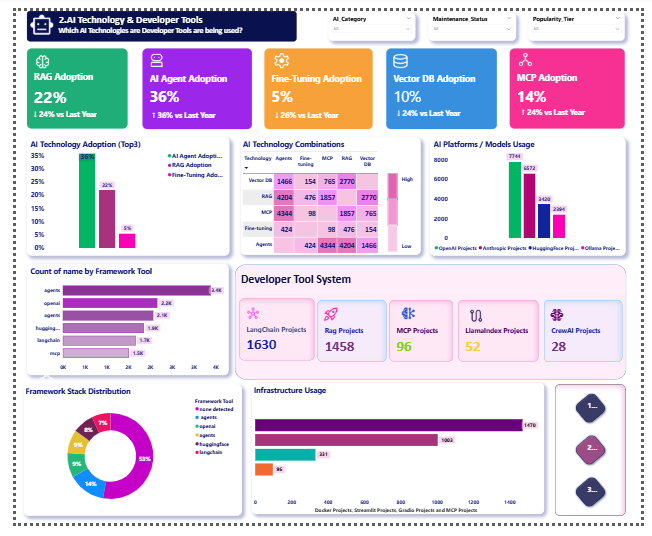

Layout of this report page (visuals, bound fields, positions):
{"tool":"powerbi","page":{"name":"2. AI Technology & Developer Tools","canvas":[2000,1640],"ordinal":1},"visuals":[{"type":"shape","box":[700,810,1253.3,370],"z":0},{"type":"cardVisual","fields":{"Data":["github_ai_intelligence_2026.RAG Adoption %"]},"box":[36,120,322,256],"z":1000},{"type":"cardVisual","fields":{"Data":["github_ai_intelligence_2026.AI Agent Adoption %"]},"box":[406,120,350,258],"z":2000},{"type":"cardVisual","fields":{"Data":["github_ai_intelligence_2026.Fine-Tuning Adoption %"]},"box":[796,120,346,258],"z":3000},{"type":"cardVisual","fields":{"Data":["github_ai_intelligence_2026.MCP Adoption %"]},"box":[1580,120,368,256],"z":4000},{"type":"textbox","box":[35,0,862.5,97.5],"z":5000},{"type":"cardVisual","fields":{"Data":["github_ai_intelligence_2026.Vector DB Adoption %"]},"box":[1186,120,354,258],"z":6000},{"type":"slicer","fields":{"Values":["github_ai_intelligence_2026.ai_category"]},"box":[1000,4,278,90],"z":7000},{"type":"slicer","title":"Maintenance_Status","fields":{"Values":["github_ai_intelligence_2026.maintenance_status"]},"box":[1322,4,280,90],"z":8000},{"type":"slicer","title":"Popularity_tier","fields":{"Values":["github_ai_intelligence_2026.popularity_tier"]},"box":[1640,6,308,90],"z":9000},{"type":"clusteredColumnChart","title":"AI Technology Adoption (Top3)","fields":{"Y":["github_ai_intelligence_2026.AI Agent Adoption %","github_ai_intelligence_2026.RAG Adoption %","github_ai_intelligence_2026.Fine-Tuning Adoption %"]},"box":[35,402.5,647.5,377.5],"z":10000},{"type":"clusteredColumnChart","title":"AI Platforms / Models Usage","fields":{"Y":["AI Technology.OpenAI Projects","AI Technology.Anthropic Projects","AI Technology.HuggingFace Projects","AI Technology.Ollama Projects"]},"box":[1325,405,625,377.5],"z":11000},{"type":"clusteredBarChart","fields":{"Category":["github_ai_intelligence_2026.framework_stack"],"Y":["CountNonNull(github_ai_intelligence_2026.name)"]},"box":[35,810,645,355],"z":12000},{"type":"pivotTable","title":"AI Technology Combinations","fields":{"Rows":["Tech Row.Technology"],"Columns":["Tech Column.Technology"],"Values":["Tech Row.Technology Combination"]},"box":[720,405,575,375],"z":13000},{"type":"cardVisual","fields":{"Data":["AI Platforms.LangChain Projects"]},"box":[712.5,920,240,197.5],"z":14000},{"type":"cardVisual","fields":{"Data":["AI Platforms.Rag Projects"]},"box":[965,922.5,220,197.5],"z":15000},{"type":"cardVisual","fields":{"Data":["AI Platforms.LlamaIndex Projects"]},"box":[1416.7,926.7,256.7,196.7],"z":16000},{"type":"cardVisual","fields":{"Data":["AI Platforms.CrewAI Projects"]},"box":[1690,922.5,250,197.5],"z":17000},{"type":"cardVisual","fields":{"Data":["AI Platforms.MCP Projects"]},"box":[1196.7,926.7,203.3,196.7],"z":18000},{"type":"donutChart","title":"Framework Stack Distribution","fields":{"Y":["Count(github_ai_intelligence_2026.name)"],"Category":["github_ai_intelligence_2026.Framework Tool"]},"box":[22.5,1192.5,697.5,420],"z":19000},{"type":"clusteredBarChart","title":"Infrastructure Usage","fields":{"Y":["AI Platforms.Docker Projects","AI Platforms.Streamlit Projects","AI Platforms.Gradio Projects","AI Platforms.MCP Projects"]},"box":[755,1192,935,420],"z":20000},{"type":"pageNavigator","box":[1725,1192.5,225,420],"z":21000},{"type":"image","box":[35,0,95,90],"z":22000},{"type":"image","box":[47.5,127.5,70,65],"z":23000},{"type":"image","box":[406,126,90,66],"z":24000},{"type":"image","box":[812.5,122.5,70,67.5],"z":25000},{"type":"image","box":[1190,126,80,70],"z":26000},{"type":"image","box":[1602,126,60,60],"z":27000},{"type":"image","box":[65,1122.5,65,70],"z":28000},{"type":"image","box":[732.5,935,47.5,65],"z":29000},{"type":"image","box":[975,940,65,60],"z":30000},{"type":"image","box":[1437.5,942.5,65,60],"z":31000},{"type":"image","box":[1217.5,935,70,65],"z":32000},{"type":"shape","box":[1190,520,30,85],"z":33000},{"type":"shape","box":[1190,600,30,85],"z":34000},{"type":"shape","box":[1190,685,30,85],"z":35000},{"type":"textbox","box":[1222.5,520,60,45],"z":36000},{"type":"textbox","box":[1222.5,735,55,35],"z":37000},{"type":"textbox","box":[712.5,830,1252.5,70],"z":38000},{"type":"image","box":[1690,937.5,82.5,65],"z":39000},{"type":"card","fields":{"Values":["AI Platforms.RAG Adoption Growth Label"]},"box":[50,302,214,60],"z":40000},{"type":"card","fields":{"Values":["AI Platforms.AI Agents Adoption Growth Label"]},"box":[426,308,222,48],"z":41000},{"type":"card","fields":{"Values":["AI Platforms.Fine-tuning Adoption Growth Label"]},"box":[813.3,303.3,230,56.7],"z":42000},{"type":"card","fields":{"Values":["AI Platforms.Vector DB Adoption Growth Label"]},"box":[1206.7,300,230,53.3],"z":43000},{"type":"card","fields":{"Values":["AI Platforms.MCP Adoption Growth Label"]},"box":[1603.3,300,226.7,46.7],"z":44000}]}

Visuals, with their boxes in screenshot pixels (x1, y1, x2, y2), scaled from the page's 2000x1640 canvas onto the 652x536 screenshot:
shape: (x1=228, y1=265, x2=637, y2=386)
cardVisual - github_ai_intelligence_2026.RAG Adoption %: (x1=12, y1=39, x2=117, y2=123)
cardVisual - github_ai_intelligence_2026.AI Agent Adoption %: (x1=132, y1=39, x2=246, y2=124)
cardVisual - github_ai_intelligence_2026.Fine-Tuning Adoption %: (x1=259, y1=39, x2=372, y2=124)
cardVisual - github_ai_intelligence_2026.MCP Adoption %: (x1=515, y1=39, x2=635, y2=123)
textbox: (x1=11, y1=0, x2=293, y2=32)
cardVisual - github_ai_intelligence_2026.Vector DB Adoption %: (x1=387, y1=39, x2=502, y2=124)
slicer - github_ai_intelligence_2026.ai_category: (x1=326, y1=1, x2=417, y2=31)
"Maintenance_Status" slicer: (x1=431, y1=1, x2=522, y2=31)
"Popularity_tier" slicer: (x1=535, y1=2, x2=635, y2=31)
"AI Technology Adoption (Top3)" clusteredColumnChart: (x1=11, y1=132, x2=222, y2=255)
"AI Platforms / Models Usage" clusteredColumnChart: (x1=432, y1=132, x2=636, y2=256)
clusteredBarChart - github_ai_intelligence_2026.framework_stack x CountNonNull(github_ai_intelligence_2026.name): (x1=11, y1=265, x2=222, y2=381)
"AI Technology Combinations" pivotTable: (x1=235, y1=132, x2=422, y2=255)
cardVisual - AI Platforms.LangChain Projects: (x1=232, y1=301, x2=311, y2=365)
cardVisual - AI Platforms.Rag Projects: (x1=315, y1=302, x2=386, y2=366)
cardVisual - AI Platforms.LlamaIndex Projects: (x1=462, y1=303, x2=546, y2=367)
cardVisual - AI Platforms.CrewAI Projects: (x1=551, y1=302, x2=632, y2=366)
cardVisual - AI Platforms.MCP Projects: (x1=390, y1=303, x2=456, y2=367)
"Framework Stack Distribution" donutChart: (x1=7, y1=390, x2=235, y2=527)
"Infrastructure Usage" clusteredBarChart: (x1=246, y1=390, x2=551, y2=527)
pageNavigator: (x1=562, y1=390, x2=636, y2=527)
image: (x1=11, y1=0, x2=42, y2=29)
image: (x1=15, y1=42, x2=38, y2=63)
image: (x1=132, y1=41, x2=162, y2=63)
image: (x1=265, y1=40, x2=288, y2=62)
image: (x1=388, y1=41, x2=414, y2=64)
image: (x1=522, y1=41, x2=542, y2=61)
image: (x1=21, y1=367, x2=42, y2=390)
image: (x1=239, y1=306, x2=254, y2=327)
image: (x1=318, y1=307, x2=339, y2=327)
image: (x1=469, y1=308, x2=490, y2=328)
image: (x1=397, y1=306, x2=420, y2=327)
shape: (x1=388, y1=170, x2=398, y2=198)
shape: (x1=388, y1=196, x2=398, y2=224)
shape: (x1=388, y1=224, x2=398, y2=252)
textbox: (x1=399, y1=170, x2=418, y2=185)
textbox: (x1=399, y1=240, x2=416, y2=252)
textbox: (x1=232, y1=271, x2=641, y2=294)
image: (x1=551, y1=306, x2=578, y2=328)
card - AI Platforms.RAG Adoption Growth Label: (x1=16, y1=99, x2=86, y2=118)
card - AI Platforms.AI Agents Adoption Growth Label: (x1=139, y1=101, x2=211, y2=116)
card - AI Platforms.Fine-tuning Adoption Growth Label: (x1=265, y1=99, x2=340, y2=118)
card - AI Platforms.Vector DB Adoption Growth Label: (x1=393, y1=98, x2=468, y2=115)
card - AI Platforms.MCP Adoption Growth Label: (x1=523, y1=98, x2=597, y2=113)
